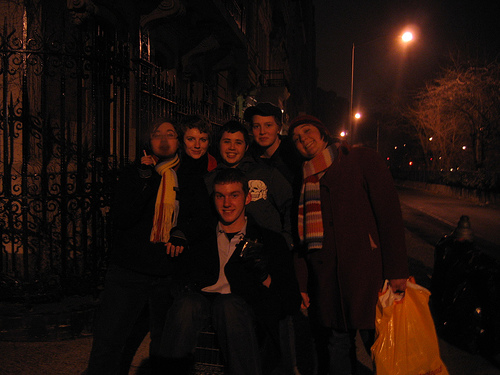without_mask: (212, 181, 252, 221), (290, 124, 325, 156), (148, 122, 177, 159), (182, 127, 210, 160), (250, 116, 279, 147), (217, 131, 245, 163)
